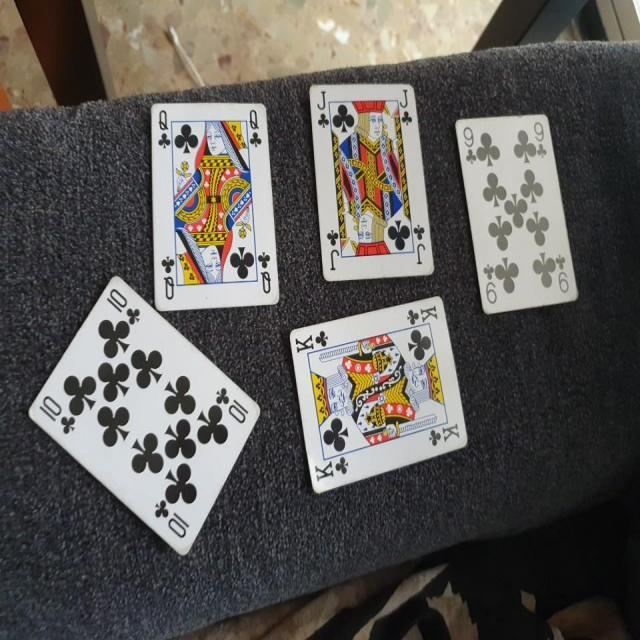10 of clubs: (27, 275, 262, 561)
9 of clubs: (453, 107, 580, 320)
jack of clubs: (308, 80, 434, 284)
king of clubs: (286, 294, 472, 494)
queen of clubs: (148, 101, 282, 312)
